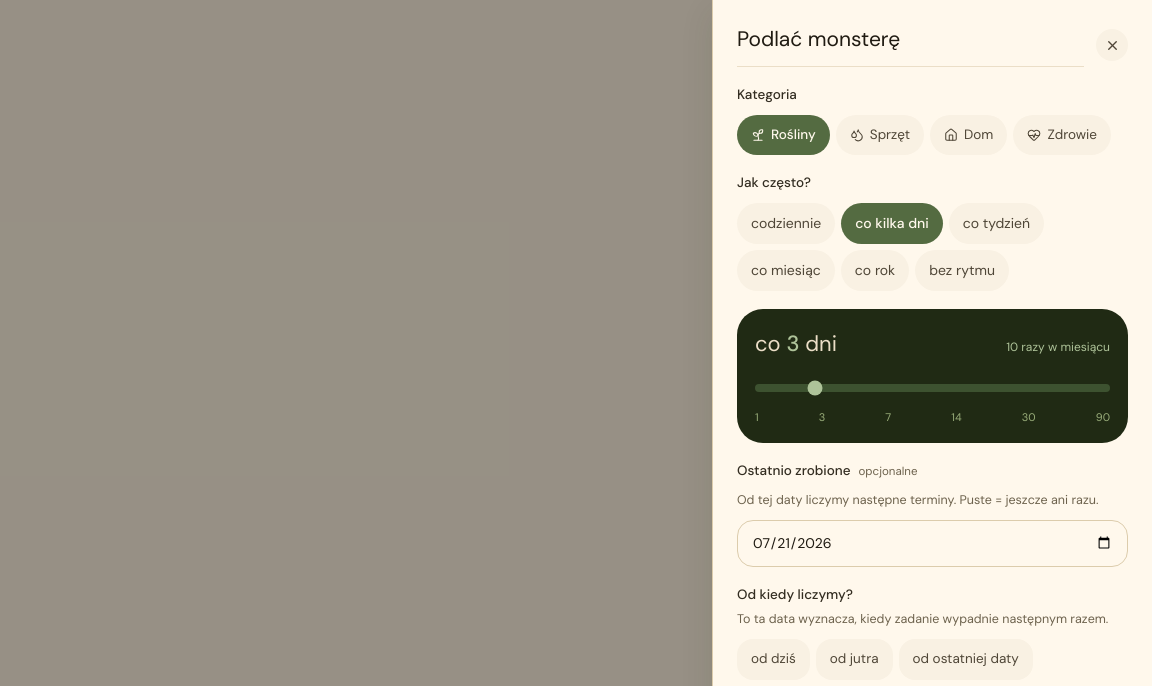
Scenario: TaskSheet › only asks what to re-base on once the rhythm has actually changed
Expected: the text "Zmiana rytmu przesunie" is not shown
Click the button "codziennie".
click(786, 224)  # box x1=737 y1=203 x2=835 y2=244
(page scrolled)
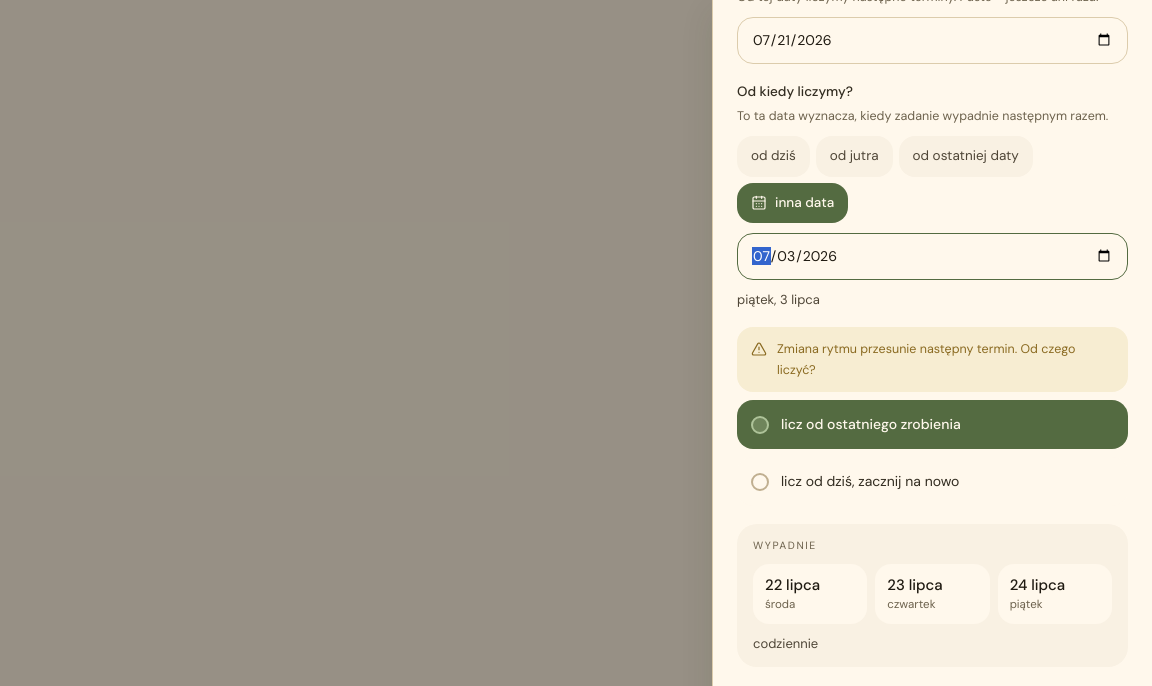
Expected: the text "Zmiana rytmu przesunie następny termin. Od czego liczyć?" is shown, x1=737 y1=327 x2=1128 y2=392
